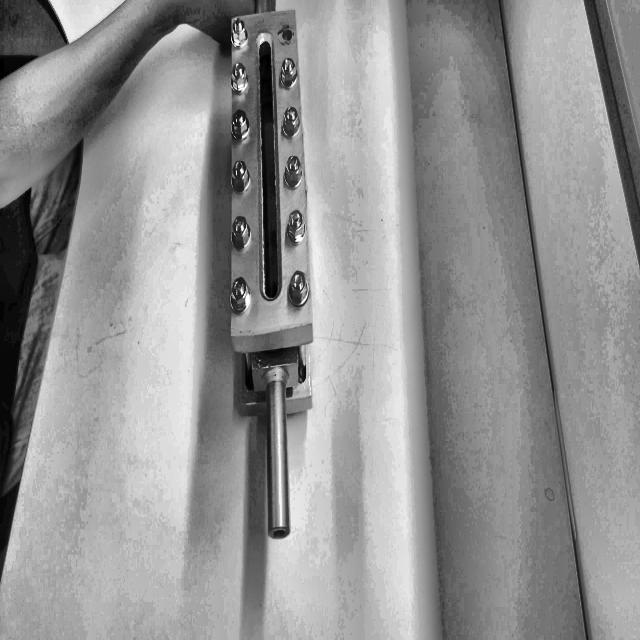ShuiWeiQi_11: (202, 10, 333, 542)
